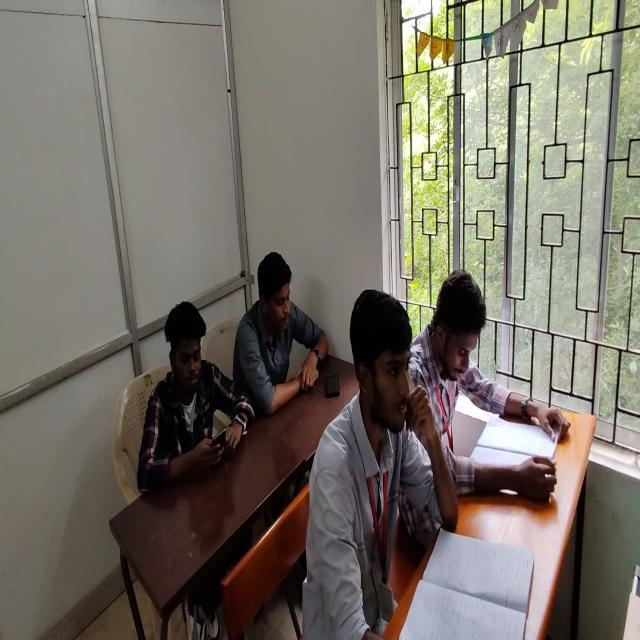reading: (315, 288, 452, 640), (404, 270, 567, 538)
using_mobile: (136, 300, 258, 495), (231, 250, 327, 420)
